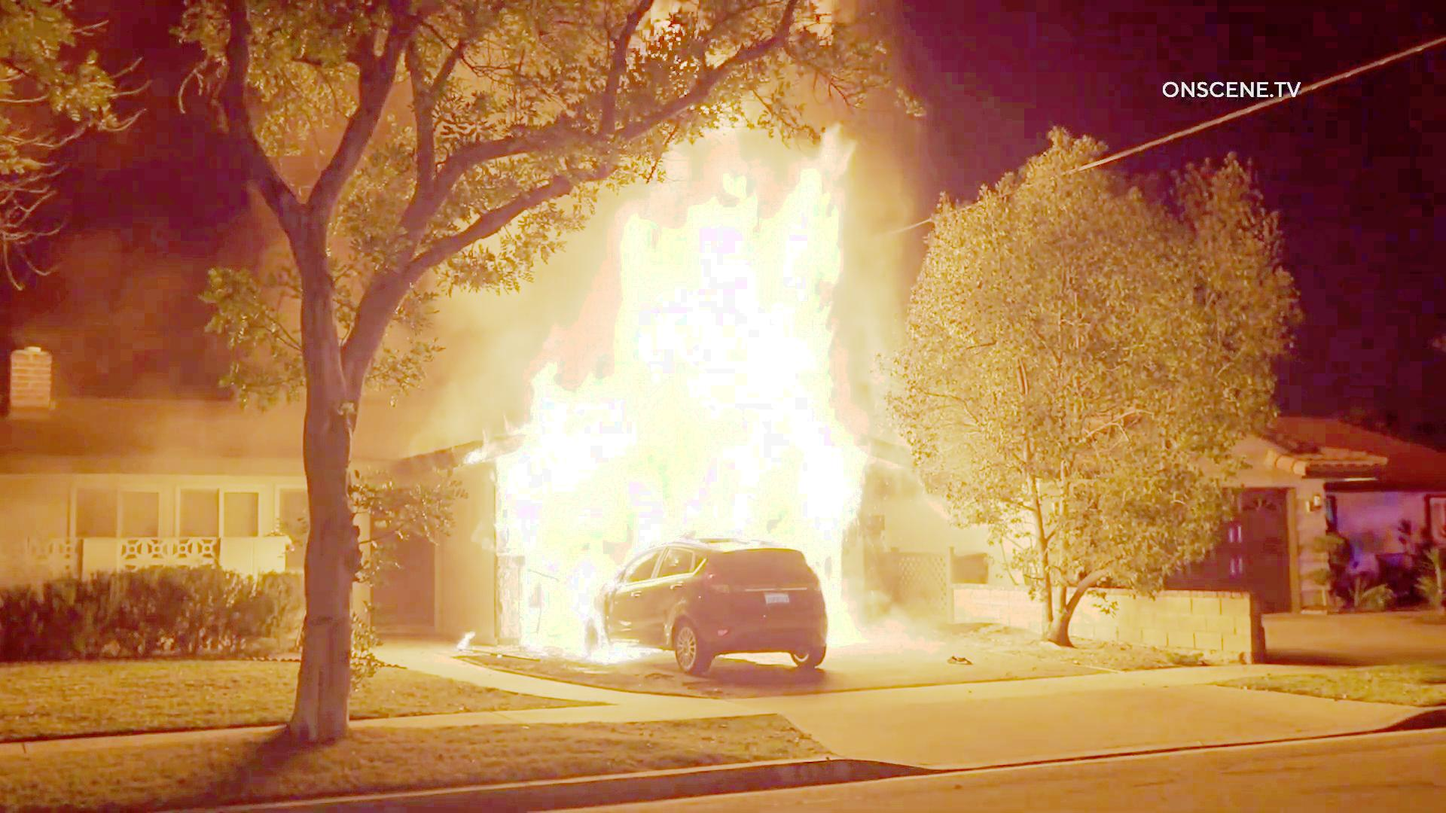fire: (637, 187, 865, 541), (531, 349, 636, 551), (505, 456, 600, 646)
smoke: (428, 300, 520, 431)
